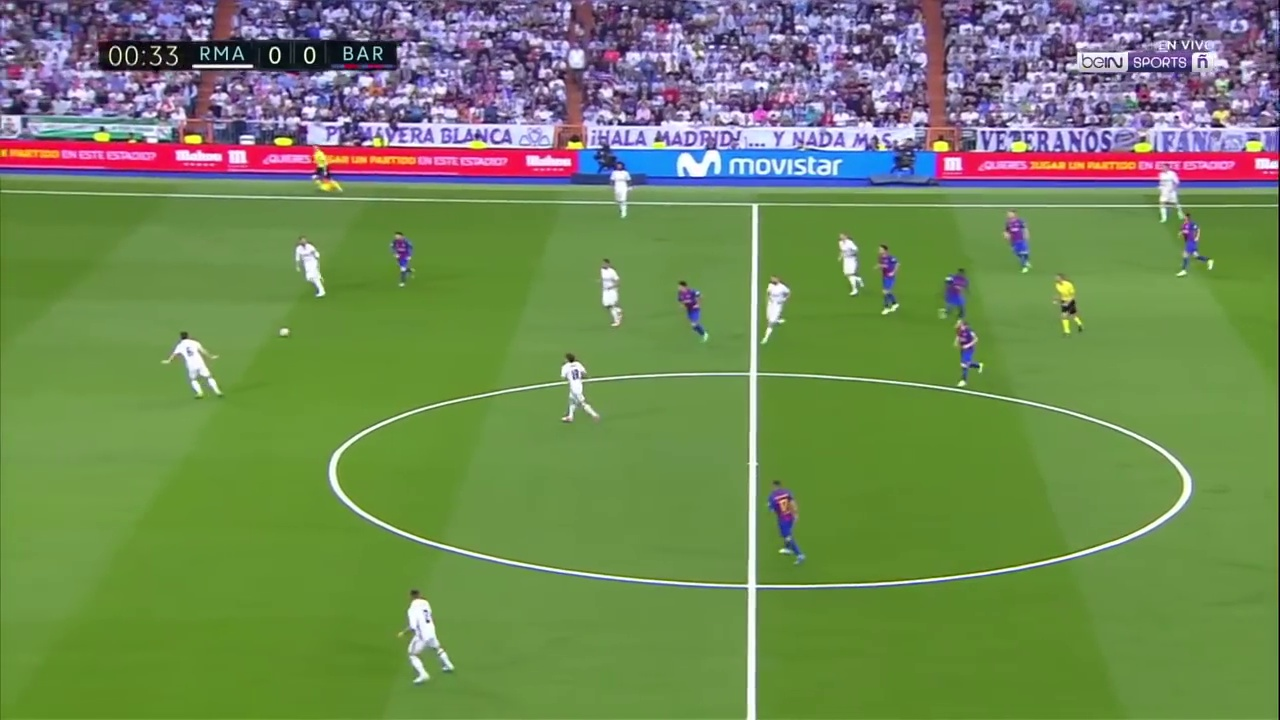ball: (276, 325, 292, 339)
blurry: (763, 475, 806, 571), (1153, 163, 1186, 226), (937, 262, 969, 323)
player: (393, 585, 457, 685), (158, 327, 228, 400), (555, 347, 604, 431), (1173, 210, 1218, 283), (947, 317, 991, 391), (289, 232, 334, 301), (1050, 268, 1088, 342), (1001, 206, 1038, 276), (833, 230, 868, 303), (758, 274, 792, 349), (871, 238, 902, 319), (599, 255, 631, 332), (676, 279, 713, 345), (387, 227, 420, 295), (610, 160, 636, 223)
